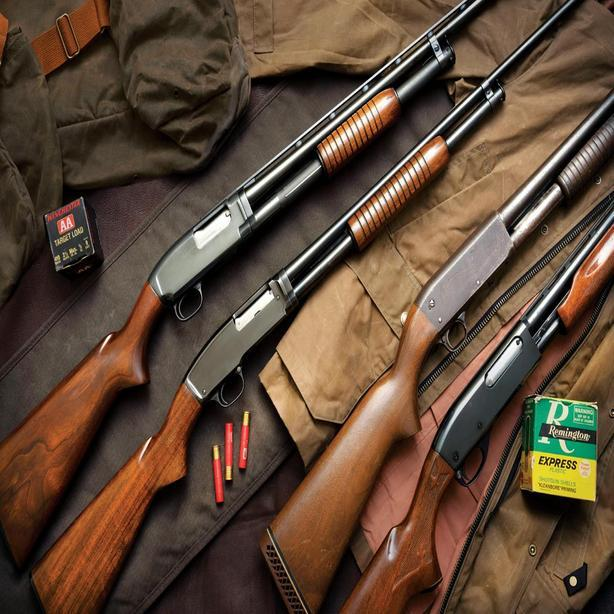Firearm: (30, 0, 614, 610), (0, 0, 526, 571)
